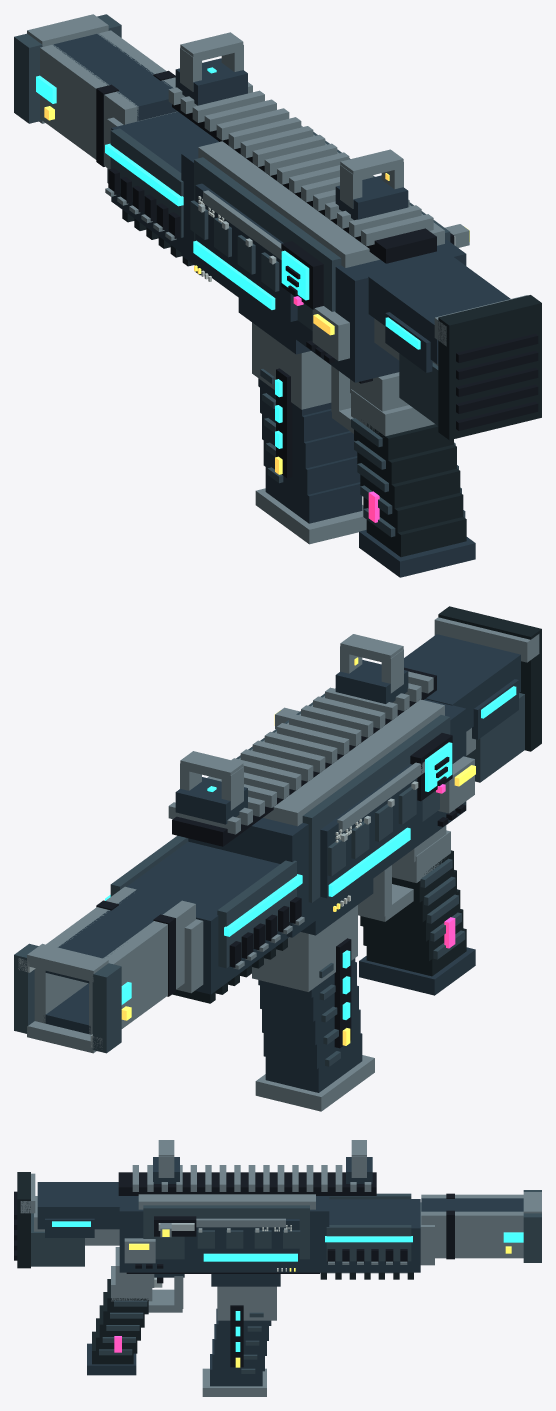
File: pulse-carbine.glb
The picture shows the model from 3 angles, top to bottom: view 1: azimuth 30°, elevation 25°; view 2: azimuth 150°, elevation 25°; view 3: azimuth 270°, elevation 25°; orthographic projection. The views are drawn at different scales.
Parts seen in each view (by area): view 1: receiver, shoulder_stock, top_rail_and_sights, pistol_grip, magazine, barrel_and_open_muzzle, handguard, status_display, trigger_guard; view 2: receiver, top_rail_and_sights, barrel_and_open_muzzle, magazine, handguard, shoulder_stock, pistol_grip, status_display, trigger_guard; view 3: receiver, shoulder_stock, handguard, top_rail_and_sights, barrel_and_open_muzzle, magazine, pistol_grip, trigger_guard, bolt.
Part boxes in pixels (<box>): receiver: <box>181,125,466,383</box>; shoulder_stock: <box>368,256,541,440</box>; top_rail_and_sights: <box>168,32,436,263</box>; pistol_grip: <box>350,372,475,577</box>; magazine: <box>252,322,366,544</box>; barrel_and_open_muzzle: <box>14,14,177,167</box>; handguard: <box>105,111,218,275</box>; status_display: <box>281,241,323,309</box>; trigger_guard: <box>331,365,353,433</box>; receiver: <box>188,688,475,937</box>; top_rail_and_sights: <box>168,634,436,846</box>; barrel_and_open_muzzle: <box>14,886,195,1053</box>; magazine: <box>252,905,374,1111</box>; handguard: <box>105,835,304,1003</box>; shoulder_stock: <box>404,606,541,782</box>; pistol_grip: <box>359,825,475,995</box>; status_display: <box>410,733,452,801</box>; trigger_guard: <box>358,865,413,921</box>; receiver: <box>119,1194,329,1286</box>; shoulder_stock: <box>14,1172,120,1268</box>; handguard: <box>320,1193,434,1279</box>; top_rail_and_sights: <box>118,1140,376,1195</box>; barrel_and_open_muzzle: <box>421,1190,541,1262</box>; magazine: <box>202,1286,276,1396</box>; pistol_grip: <box>87,1247,154,1375</box>; trigger_guard: <box>148,1274,184,1312</box>; bolt: <box>154,1216,196,1237</box>.
Bounding box in the file's own units: 0.2205 × 0.4925 × 0.983.
